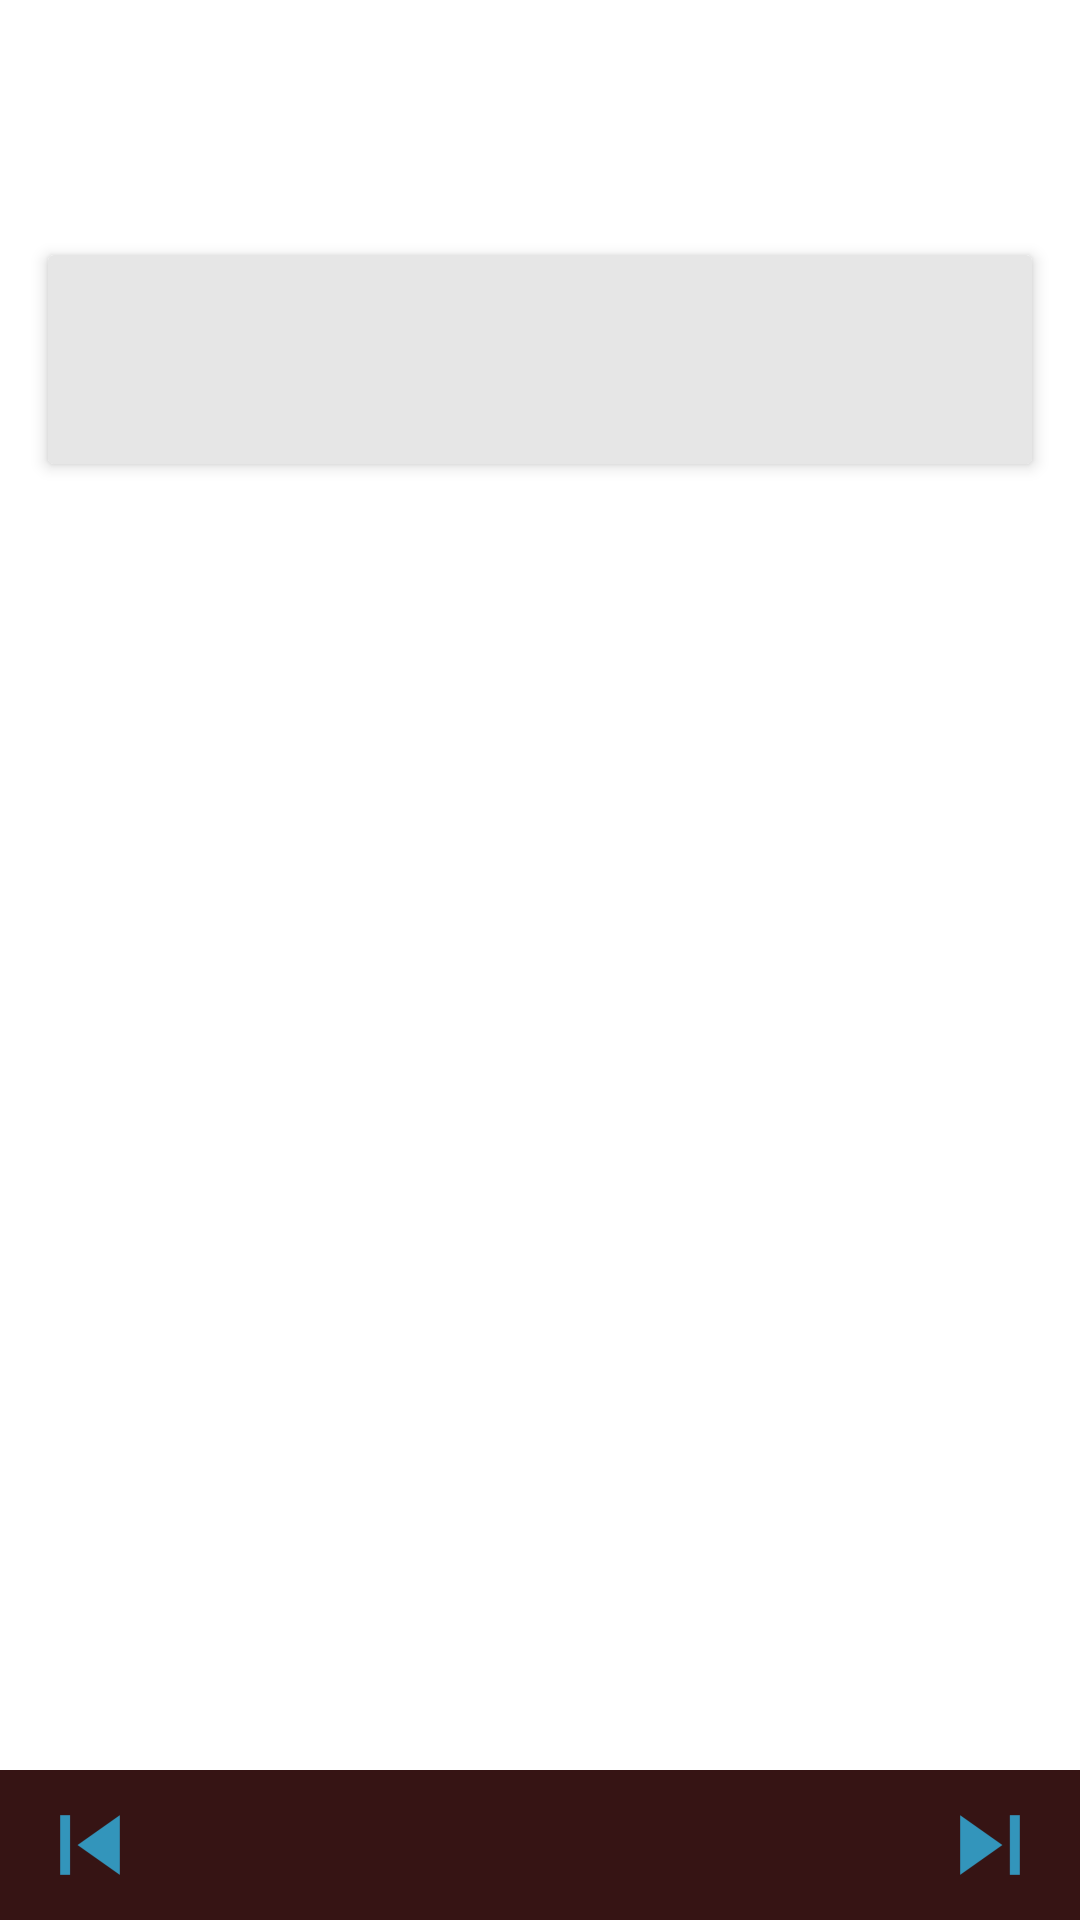

Point at icon controls on the screen. Image size 1080 x 1920, points as (x=x, y=y).
back: (x=90, y=1845)
next: (x=990, y=1845)
